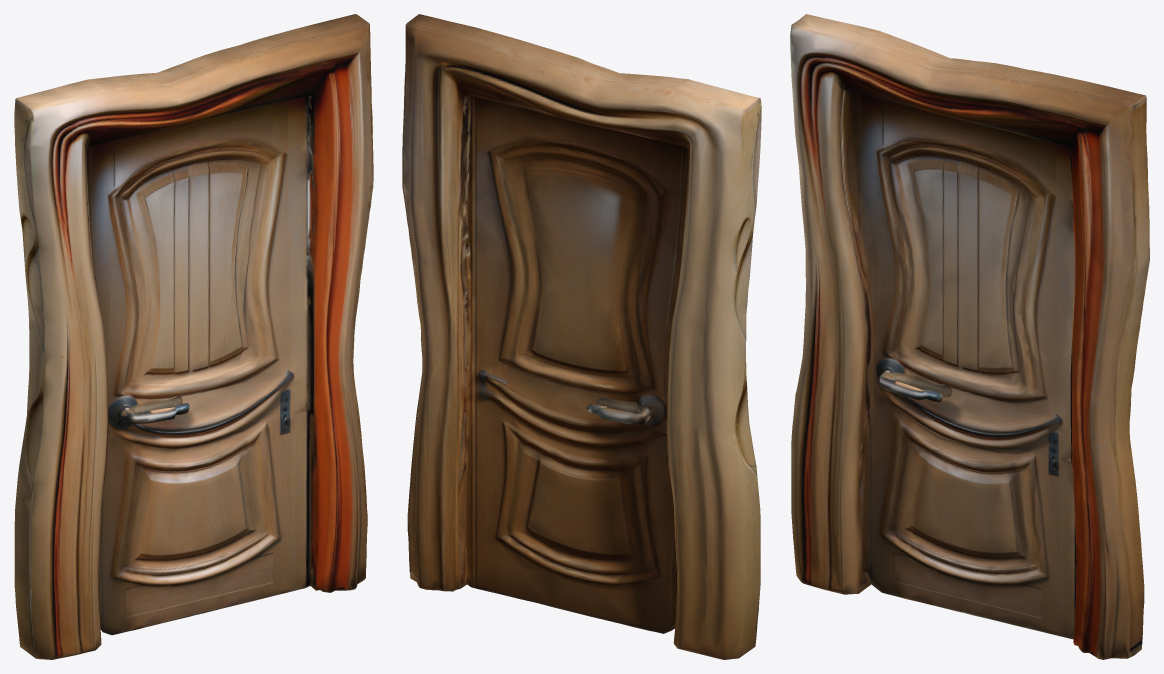
Rendered from A_surreal_distorted_c_1128003343_texture.fbx.
3 views of the same model, side by side, from view 1: azimuth 30°, elevation 25°; view 2: azimuth 150°, elevation 25°; view 3: azimuth 330°, elevation 25° (orthographic).
Visible parts, largest first — view 1: Mesh_0; view 2: Mesh_0; view 3: Mesh_0.
Part boxes in pixels (x1,y1,x2,y2): Mesh_0: (14, 14, 373, 659); Mesh_0: (402, 14, 761, 659); Mesh_0: (790, 14, 1149, 659).
Bounding box in the file's own units: 130 × 200 × 22.
1 material, 1 textured.
